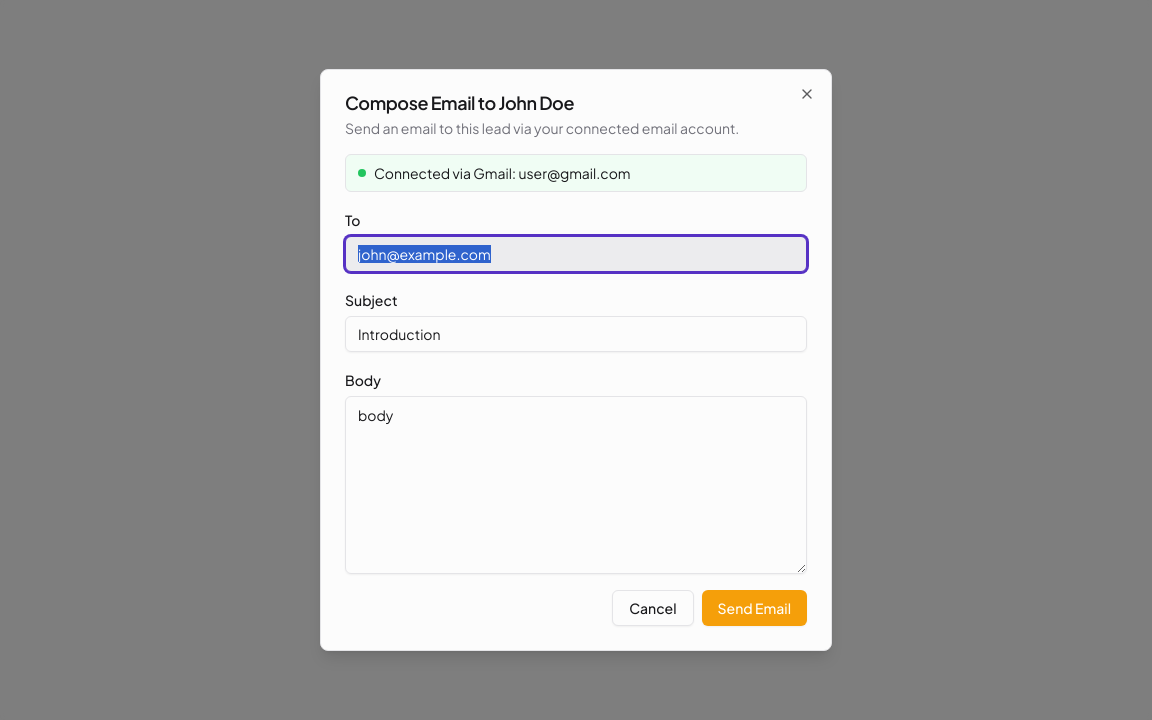
Test: ComposeEmailModal › error types render correct Failure_Alert messages › shows EMAIL_NOT_CONNECTED error message
The image size is (1152, 720).
Click the button "Send Email" at (754, 608), box [702, 590, 807, 626]
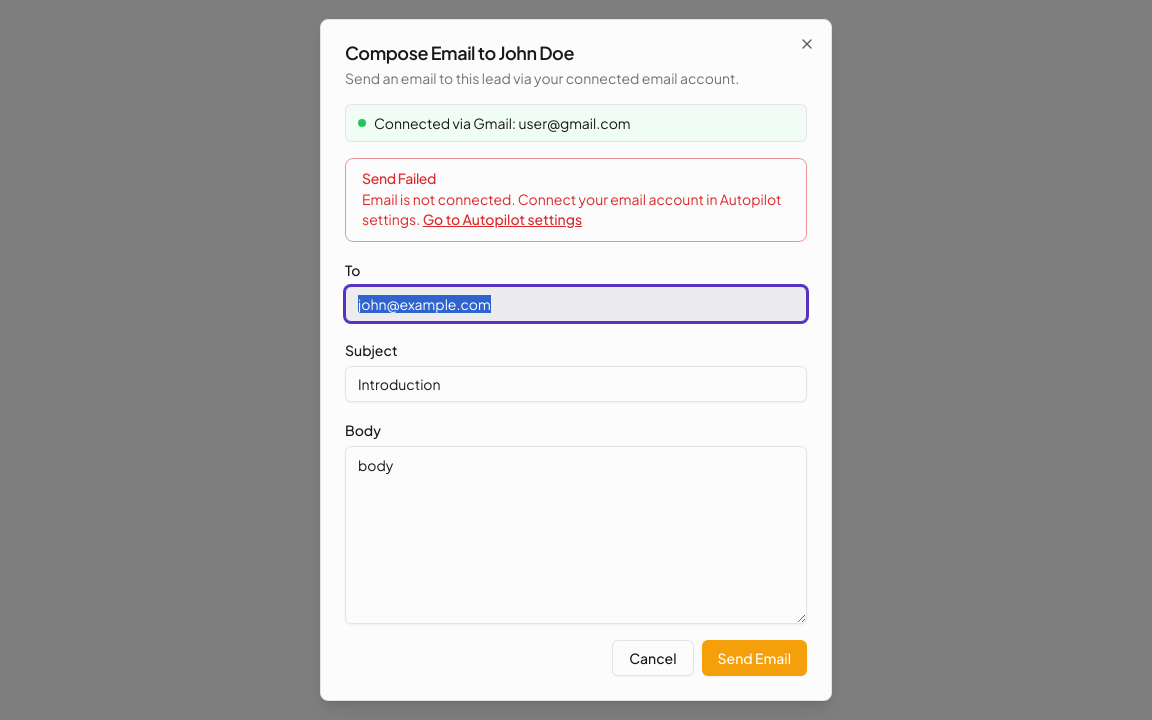
Now the heading "Send Failed" is shown, box [362, 169, 436, 187]
Now the text "Email is not connected" is shown, box [362, 190, 781, 228]
